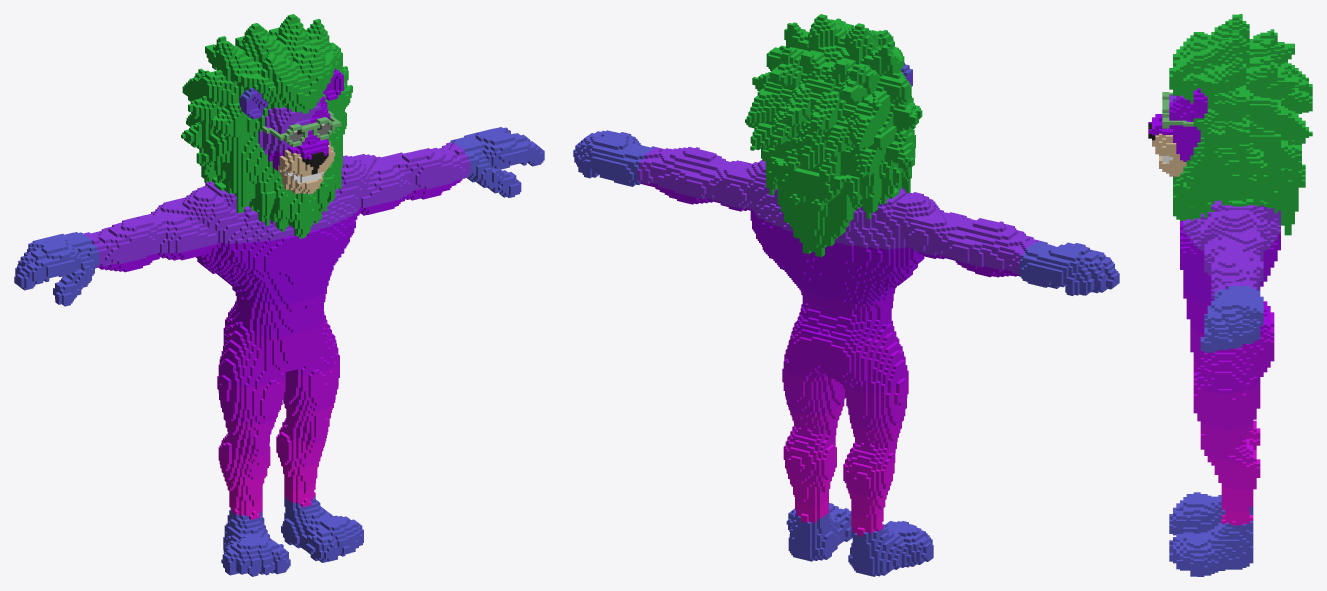
The model's file is 129-BzU5D_Ax.glb.
3 views of the same model, side by side, from view 1: azimuth 30°, elevation 25°; view 2: azimuth 150°, elevation 25°; view 3: azimuth 270°, elevation 25° (orthographic). The views are drawn at different scales.
Visible parts, largest first — view 1: big_smile; view 2: big_smile; view 3: big_smile.
Boxes of the visible parts, x1,y1,x2,y2 form: big_smile: [14, 14, 544, 576]; big_smile: [573, 14, 1119, 576]; big_smile: [1148, 14, 1312, 576].
Size of the model in its own units: 17.2 by 16.5 by 4.7.
Materials: 4 (4 with a texture image).
